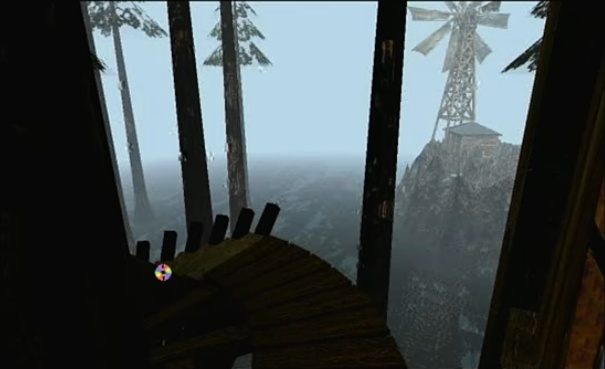Waiting: (150, 261, 174, 282)
